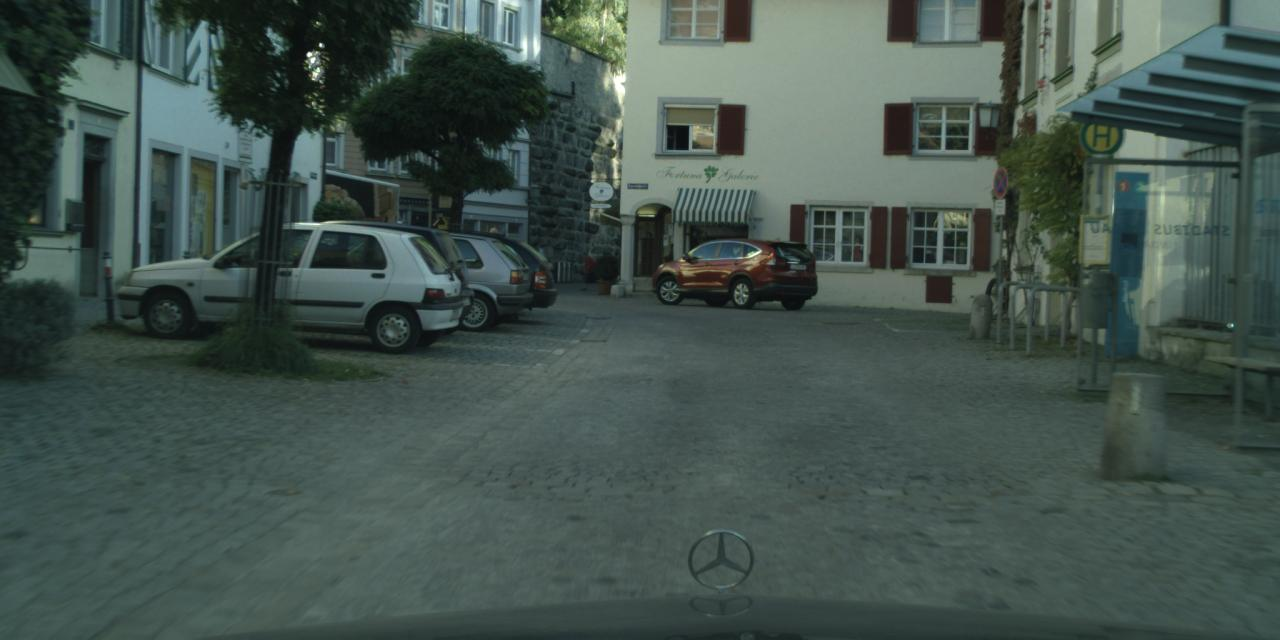ped: (580, 252, 595, 289)
